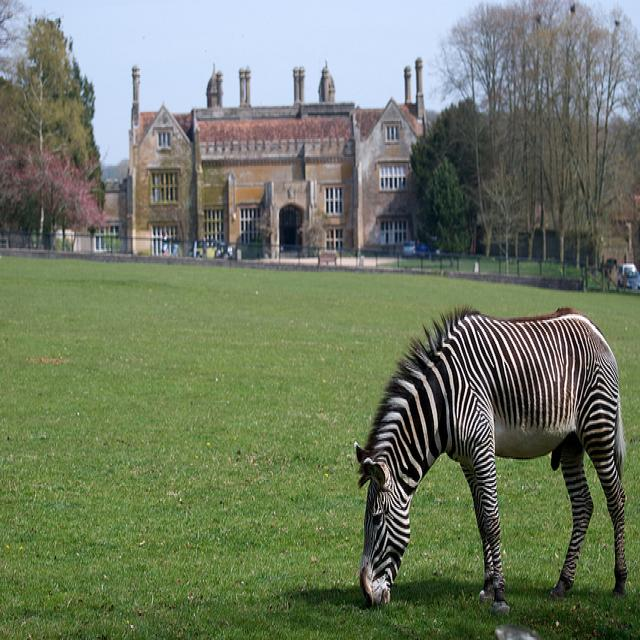Vehicle: (188, 239, 227, 259), (618, 262, 640, 288), (416, 240, 436, 260), (403, 240, 416, 258)
